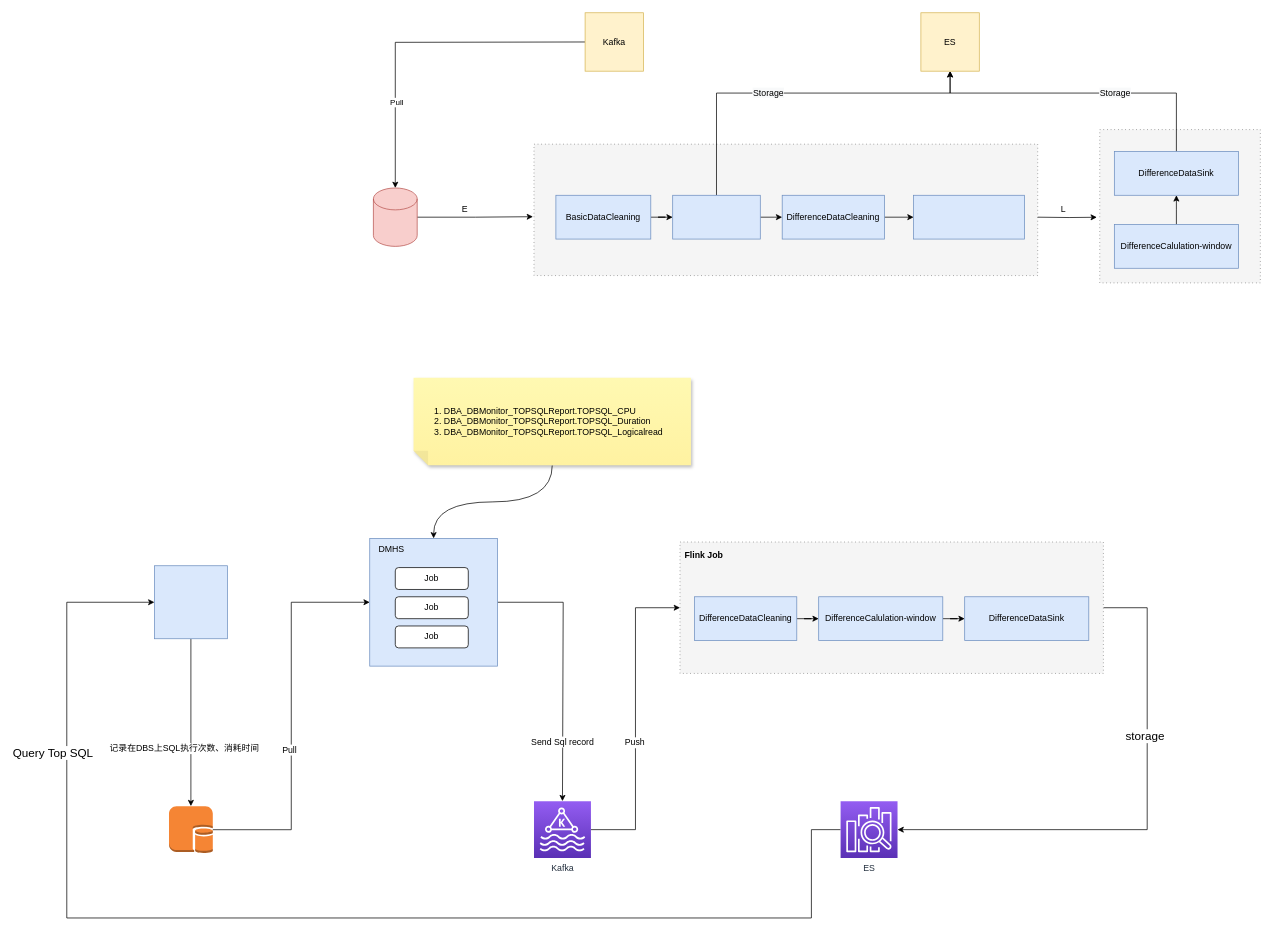
Some shapes in this 1273 by 937 pixel diagram are drawn without their labels. Here are the shapes that lost their labels. From the top down, the centre of each, then its label:
At (395,216): "Souce Data".
At (716,217): "BasicDataSink".
At (969,217): "DifferenceDataWatermarks".
At (190,829): "SQL Server".
